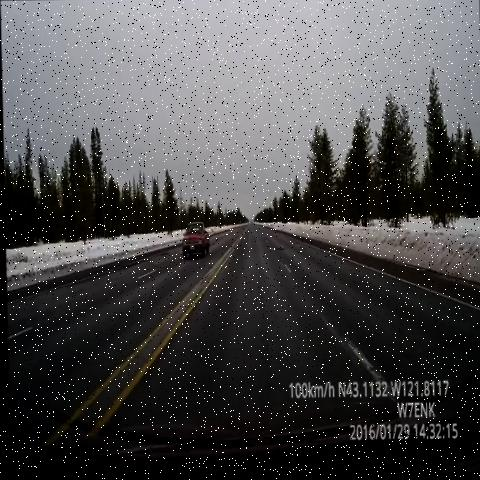pothole: (151, 244, 171, 265), (274, 242, 286, 261)
